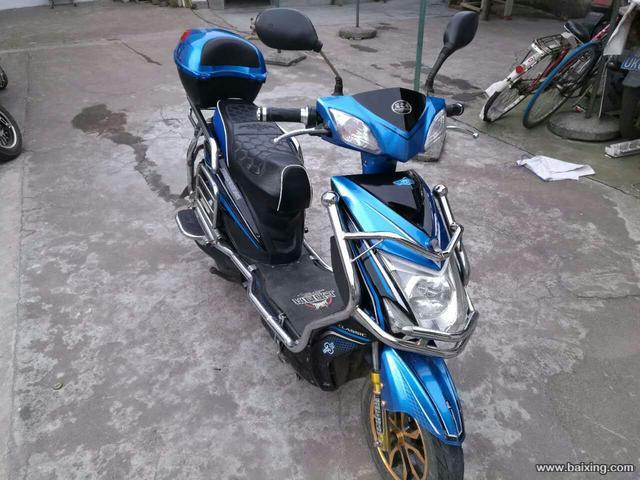电动车: (166, 1, 482, 479)
